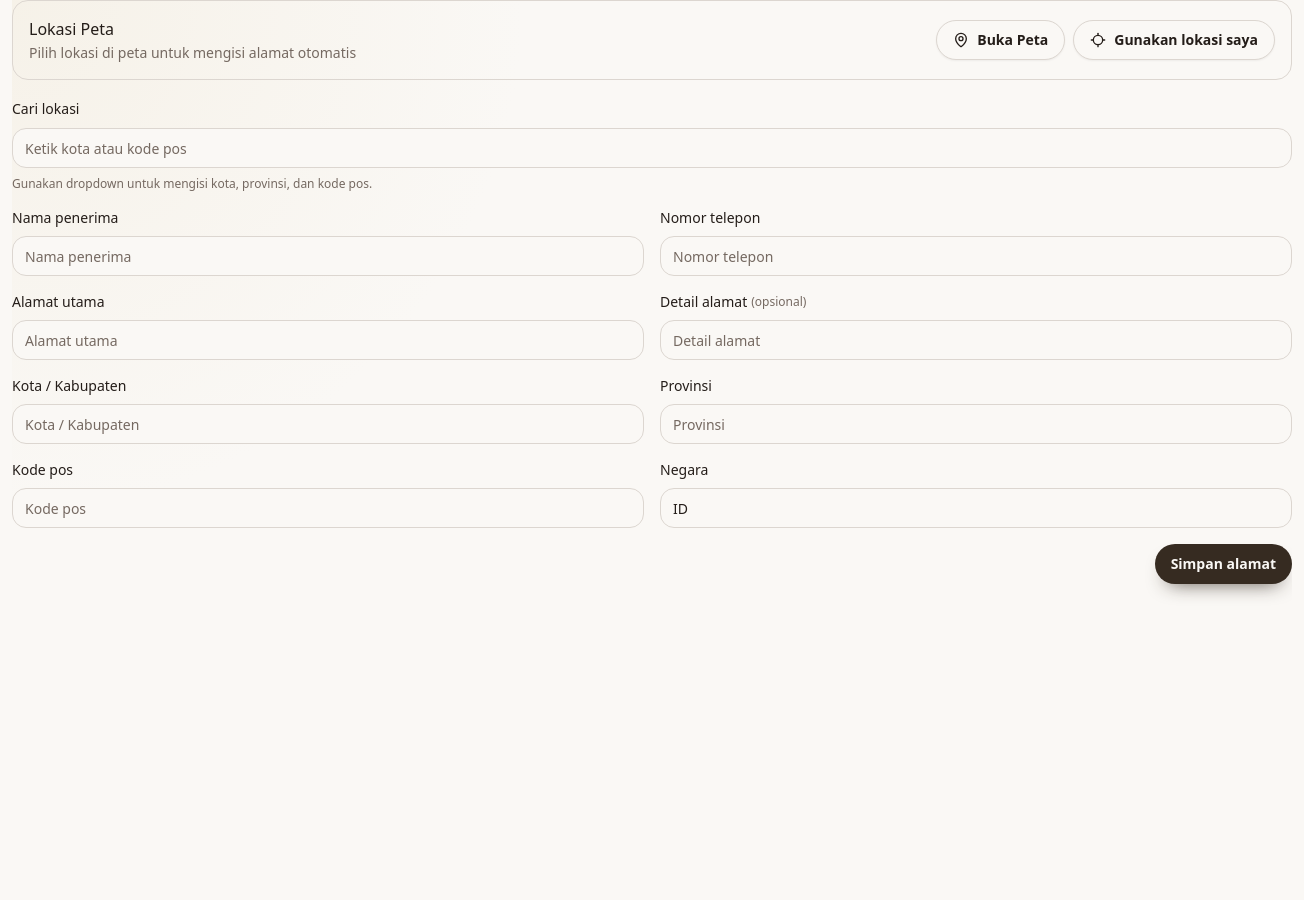
it: AddressForm › keeps the Indonesian validation text by default
Check: the field labelled "Nama penerima" is shown, box x1=12 y1=236 x2=644 y2=276
Click the button "Simpan alamat" at (1223, 564), box x1=1155 y1=544 x2=1292 y2=584
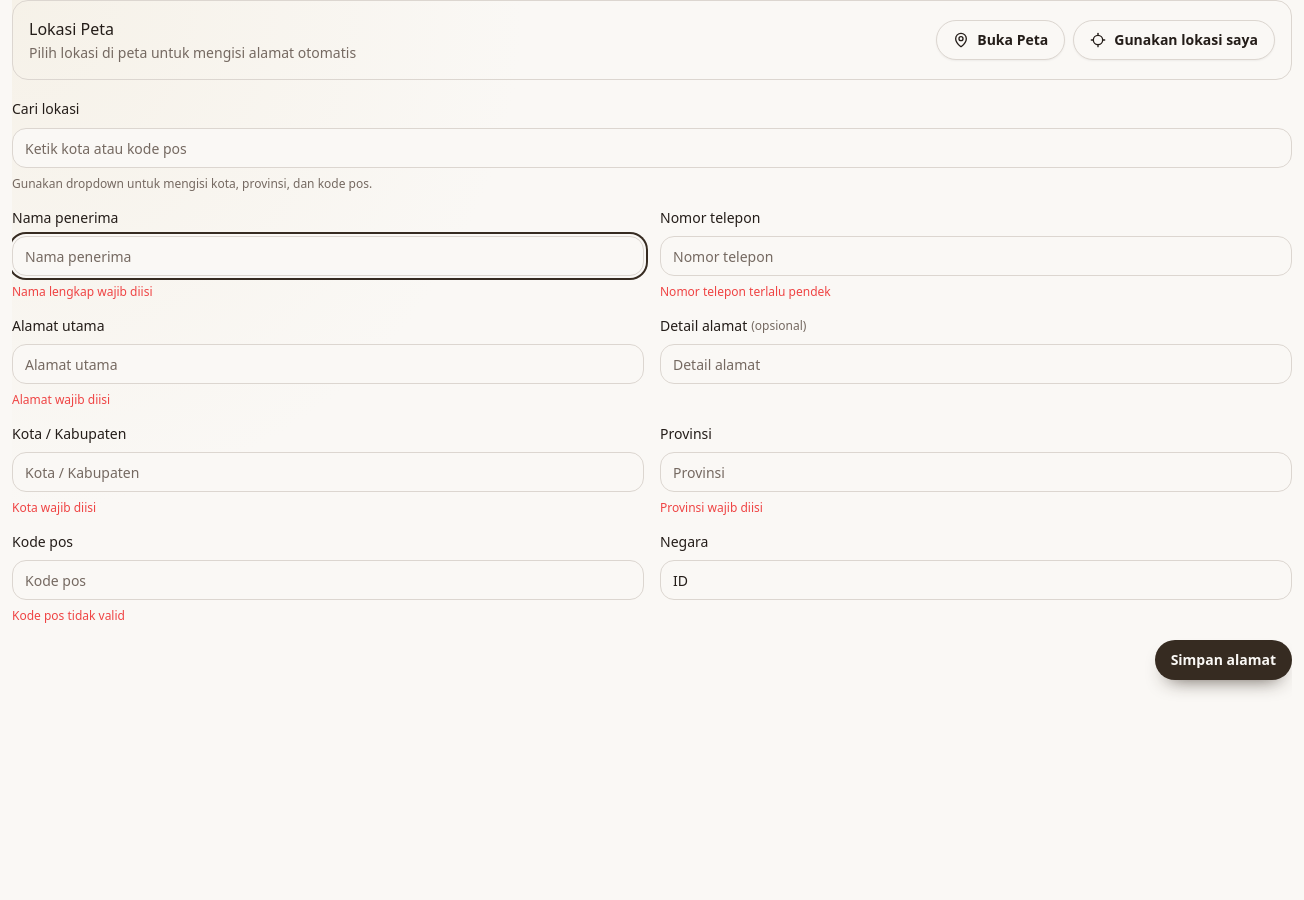
Check: the text "Nama lengkap wajib diisi" is shown, box x1=12 y1=283 x2=152 y2=300
Check: the text "Kota wajib diisi" is shown, box x1=12 y1=499 x2=96 y2=516
